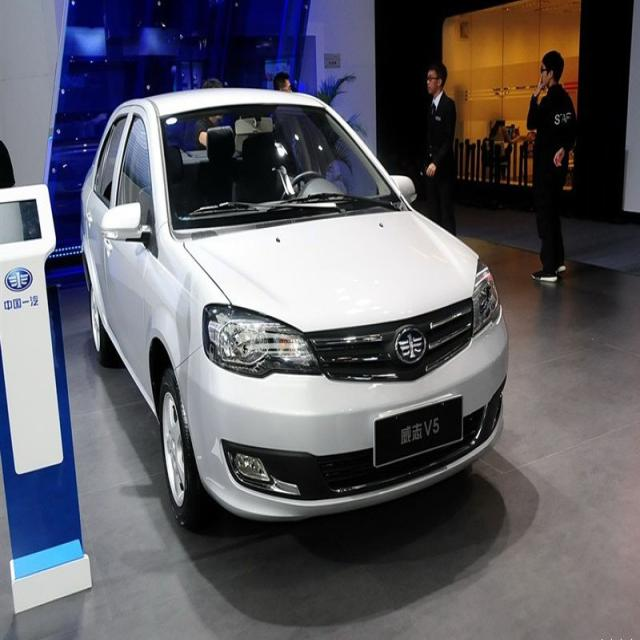front_bumper: (164, 317, 510, 524)
front_glass: (162, 102, 396, 245)
front_left_side_light: (463, 247, 503, 341)
front_left_side_mirror: (387, 169, 418, 209)
front_right_side_door: (102, 96, 169, 409)
front_right_side_light: (202, 300, 322, 386)
front_right_side_mirror: (101, 201, 150, 253)
wheel: (156, 372, 206, 520)
